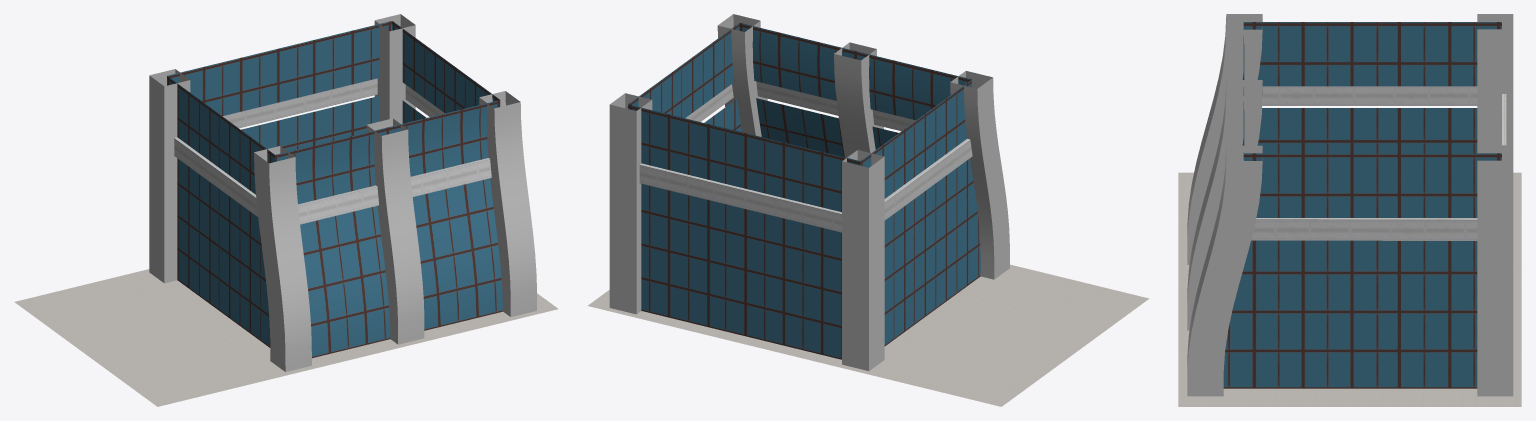
File: BuildingA.fbx
3 views of the same model, side by side, from view 1: azimuth 30°, elevation 25°; view 2: azimuth 150°, elevation 25°; view 3: azimuth 270°, elevation 25° (orthographic). The views are drawn at different scales.
Parts seen in each view (by area): view 1: BuildingA; view 2: BuildingA; view 3: BuildingA.
Boxes of the visible parts, box(x1,y1,x2,y2) form: BuildingA: box(14, 14, 558, 406); BuildingA: box(588, 14, 1149, 406); BuildingA: box(1178, 14, 1521, 406).
Size of the model in its own units: 39.68 by 18.72 by 24.58.
